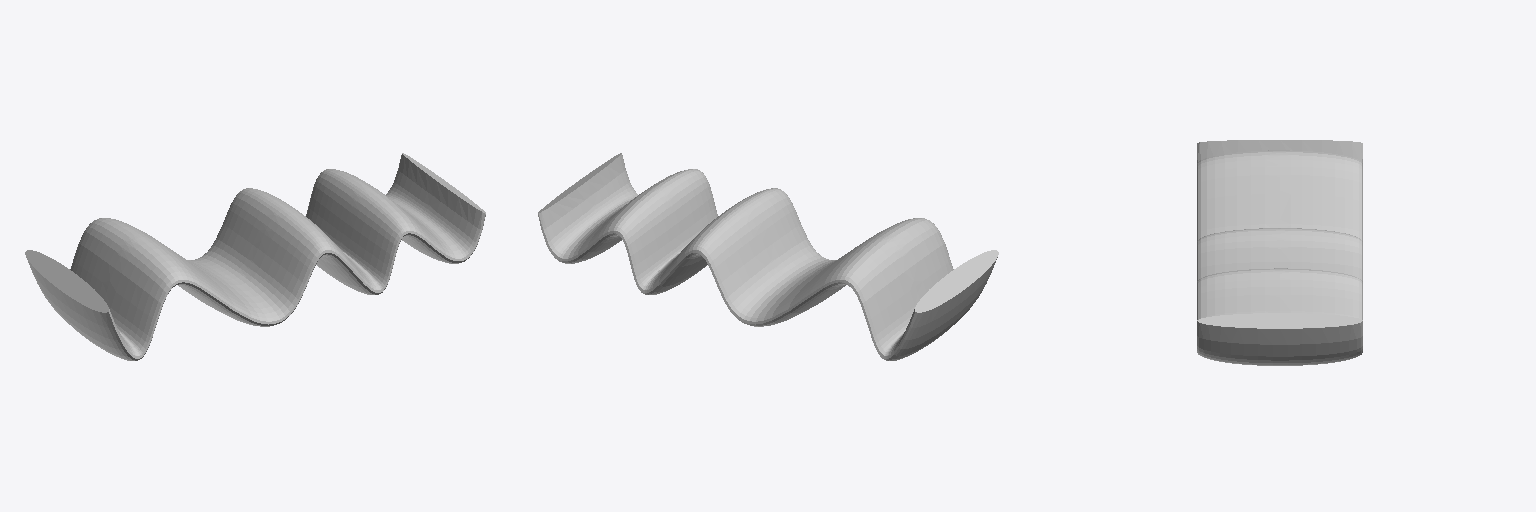
File: swiper_6.obj
3 views of the same model, side by side, from view 1: azimuth 30°, elevation 25°; view 2: azimuth 150°, elevation 25°; view 3: azimuth 270°, elevation 25° (orthographic).
Visible parts, largest first — view 1: hjalte_funny_v1; view 2: hjalte_funny_v1; view 3: hjalte_funny_v1.
Boxes of the visible parts, x1=… form: hjalte_funny_v1: x1=25, y1=153, x2=485, y2=360; hjalte_funny_v1: x1=538, y1=153, x2=998, y2=360; hjalte_funny_v1: x1=1197, y1=140, x2=1362, y2=365.
Bounding box in the file's own units: 14.08 × 3.21 × 5.18.